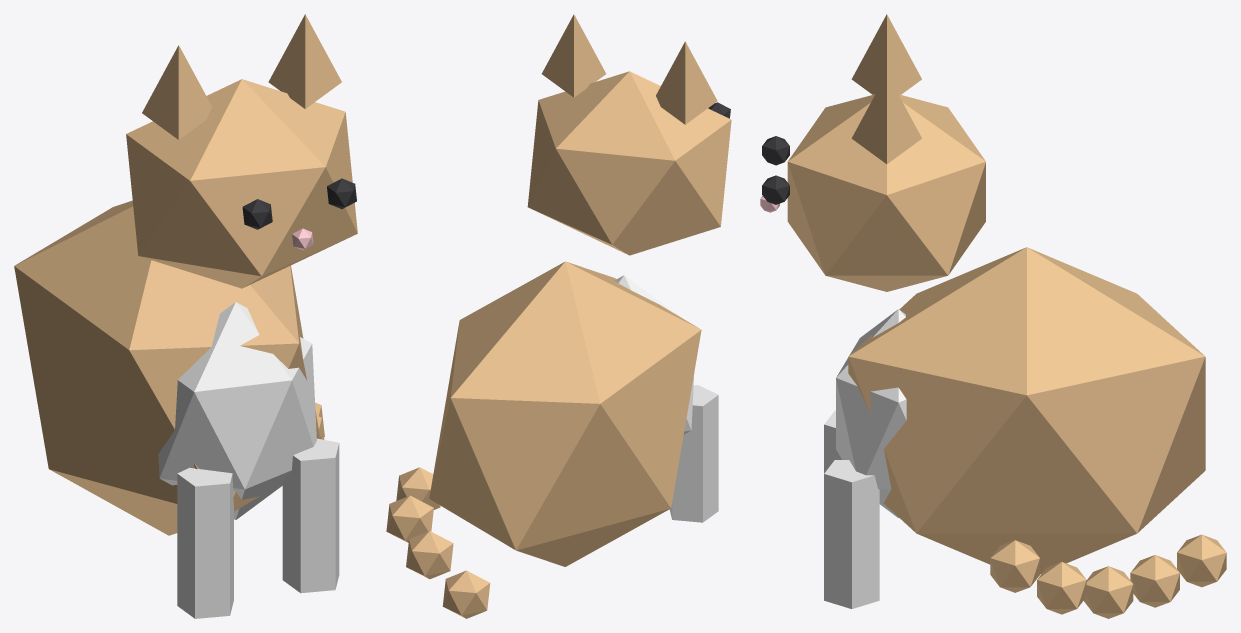
File: neko.glb
3 views of the same model, side by side, from view 1: azimuth 30°, elevation 25°; view 2: azimuth 150°, elevation 25°; view 3: azimuth 270°, elevation 25° (orthographic). The views are drawn at different scales.
Parts seen in each view (by area): view 1: neko; view 2: neko; view 3: neko.
Part boxes in pixels (x1,y1,x2,y2): neko: (14,14,357,618); neko: (386,14,731,618); neko: (760,14,1226,618).
Bounding box in the file's own units: 0.276 × 0.5075 × 0.3998.
